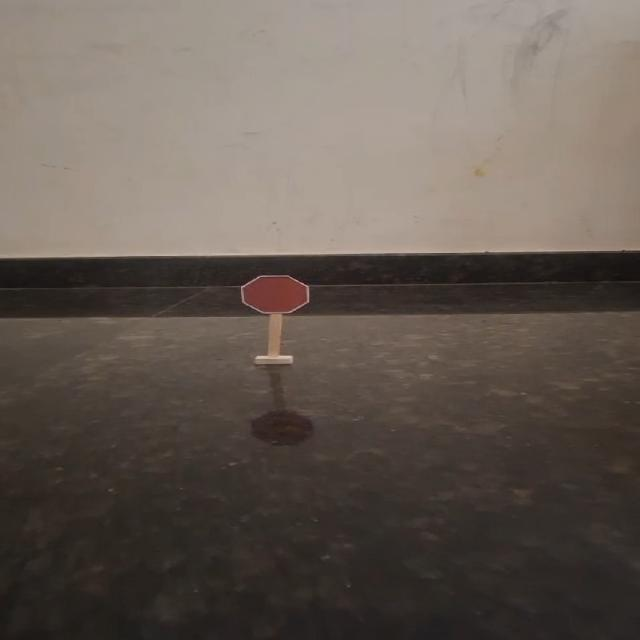Stop: (228, 269, 329, 321)
